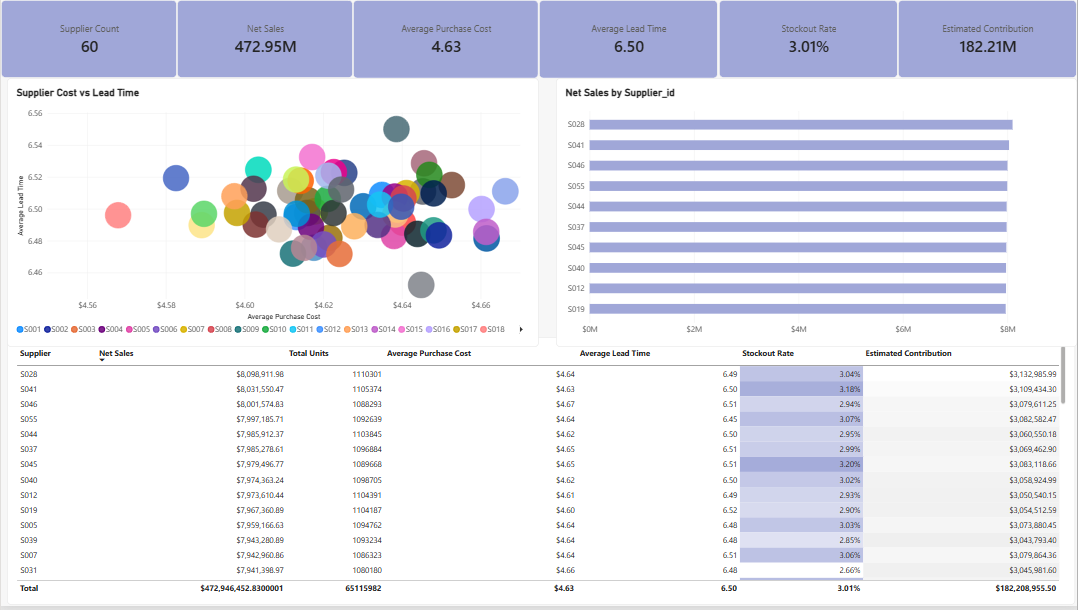

This screenshot's page, from the dashboard's own definition file:
{"tool":"powerbi","page":{"name":"04 Supplier Performance","canvas":[1920,1080],"ordinal":3},"visuals":[{"type":"cardVisual","fields":{"Data":["_Measures.Supplier Count"]},"box":[0,0,314.1,139.2],"z":0},{"type":"cardVisual","fields":{"Data":["_Measures.Net Sales"]},"box":[314.1,0,314.1,139.2],"z":1000},{"type":"cardVisual","fields":{"Data":["_Measures.Average Purchase Cost"]},"box":[628.1,0,331.9,141],"z":2000},{"type":"cardVisual","fields":{"Data":["_Measures.Average Lead Time"]},"box":[960,0,319.4,141],"z":3000},{"type":"cardVisual","fields":{"Data":["_Measures.Stockout Rate"]},"box":[1281.2,0,319.4,139.2],"z":4000},{"type":"cardVisual","fields":{"Data":["_Measures.Estimated Contribution"]},"box":[1600.6,0,319.4,139.2],"z":5000},{"type":"tableEx","fields":{"Values":["DimSupplier.supplier_id","_Measures.Net Sales","_Measures.Total Units","_Measures.Average Purchase Cost","_Measures.Average Lead Time","_Measures.Stockout Rate","_Measures.Estimated Contribution"]},"box":[10.7,601.3,1905.7,478.2],"z":6000},{"type":"scatterChart","title":"Supplier Cost vs Lead Time","fields":{"X":["_Measures.Average Purchase Cost"],"Y":["_Measures.Average Lead Time"],"Size":["_Measures.Net Sales"],"Series":["DimSupplier.supplier_id"]},"box":[10.7,139.2,949.3,480],"z":7000},{"type":"barChart","title":"Net Sales by Supplier_id","fields":{"Category":["DimSupplier.supplier_id"],"Y":["_Measures.Net Sales"]},"box":[990.3,139.2,929.7,480],"z":8000}]}

Visuals, with their boxes in screenshot pixels (x1, y1, x2, y2), scaled from the page's 1920x1080 canvas onto the 1078x610 screenshot:
cardVisual - _Measures.Supplier Count: [x1=0, y1=0, x2=176, y2=79]
cardVisual - _Measures.Net Sales: [x1=176, y1=0, x2=353, y2=79]
cardVisual - _Measures.Average Purchase Cost: [x1=353, y1=0, x2=539, y2=80]
cardVisual - _Measures.Average Lead Time: [x1=539, y1=0, x2=718, y2=80]
cardVisual - _Measures.Stockout Rate: [x1=719, y1=0, x2=899, y2=79]
cardVisual - _Measures.Estimated Contribution: [x1=899, y1=0, x2=1077, y2=79]
tableEx - DimSupplier.supplier_id x _Measures.Net Sales: [x1=6, y1=340, x2=1076, y2=609]
"Supplier Cost vs Lead Time" scatterChart: [x1=6, y1=79, x2=539, y2=350]
"Net Sales by Supplier_id" barChart: [x1=556, y1=79, x2=1077, y2=350]
